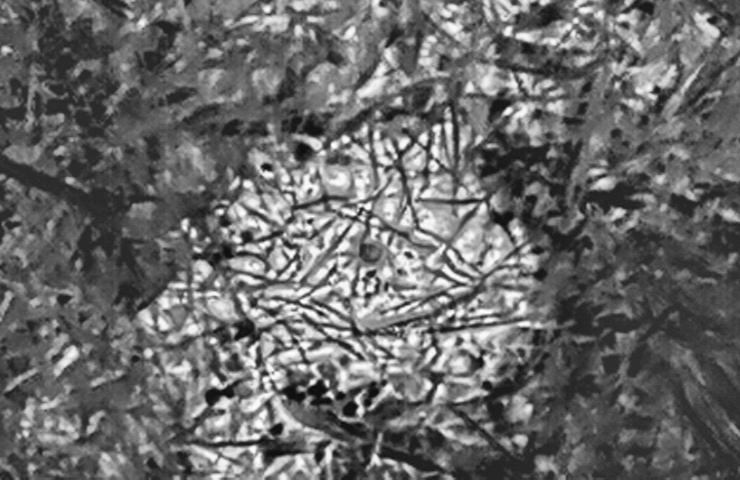landmines: (176, 106, 557, 444)
